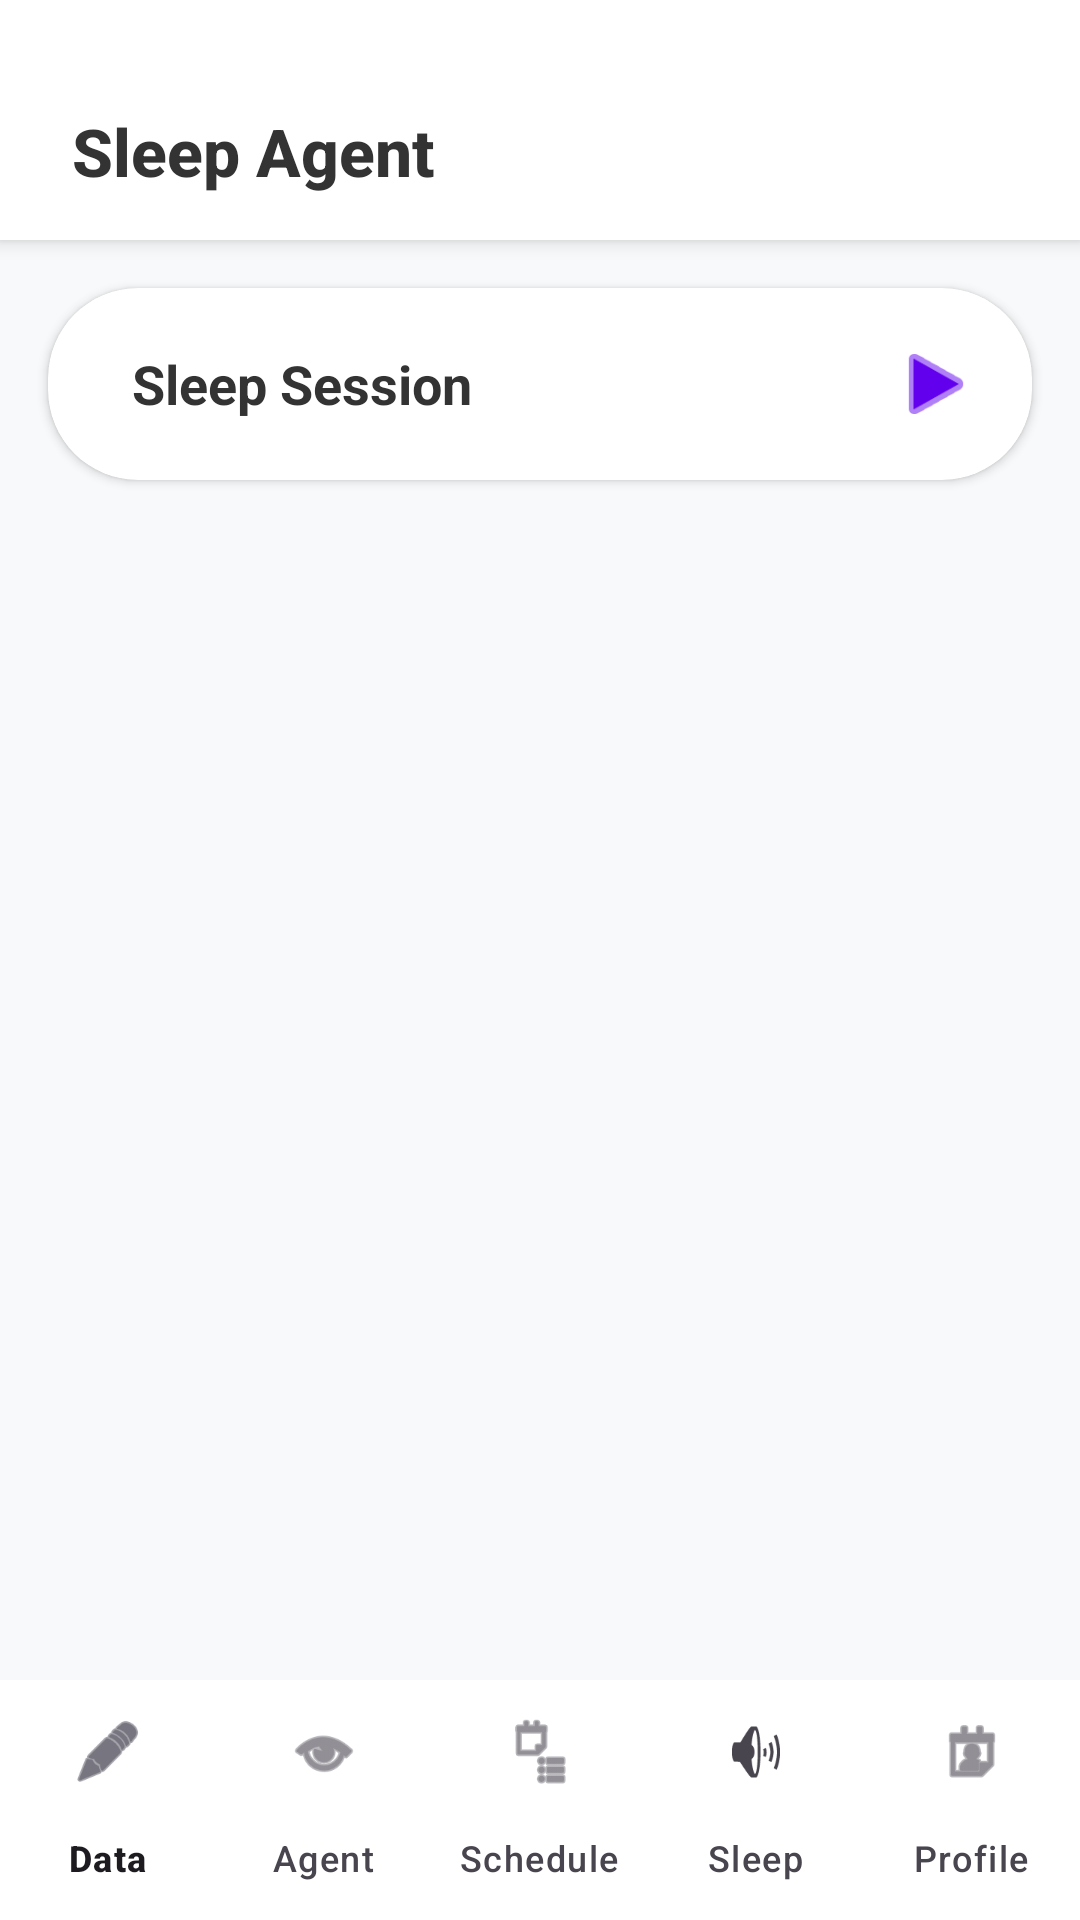

Icon bounding boxes for this 1080w x 1920h phone screenshot, format box=[x1, y1, x2, y2]:
play: box=[909, 354, 963, 414]
